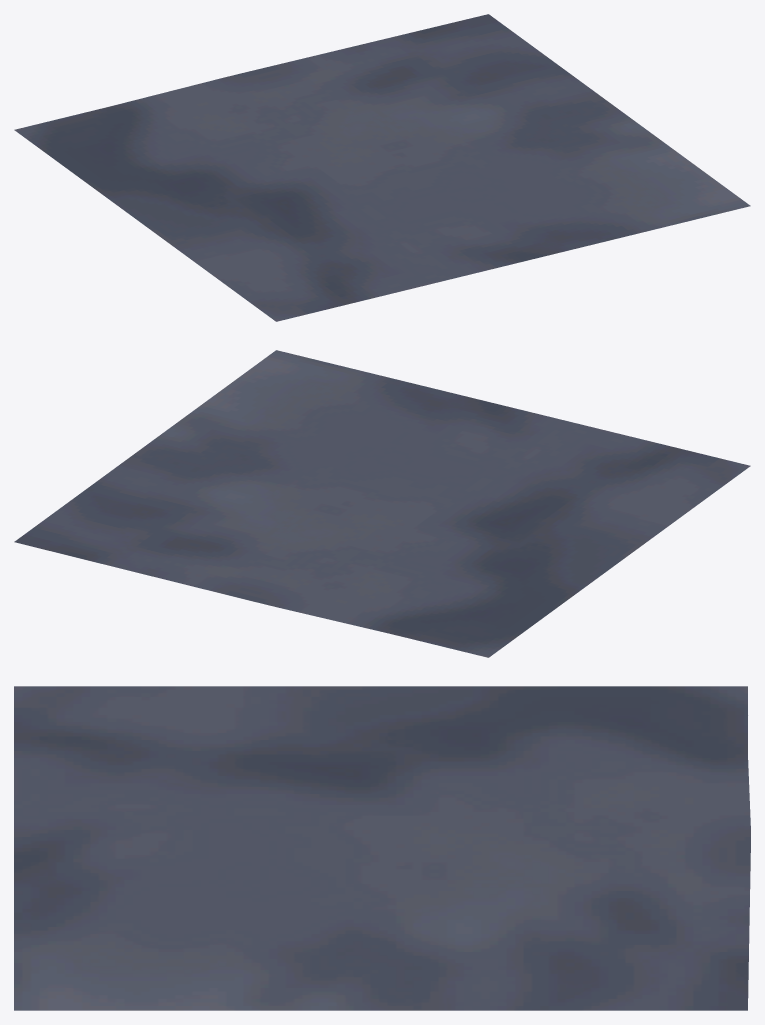
File: WaterPlane_D.fbx
3 views of the same model, one above another, from view 1: azimuth 30°, elevation 25°; view 2: azimuth 150°, elevation 25°; view 3: azimuth 270°, elevation 25° (orthographic). The views are drawn at different scales.
Parts seen in each view (by area): view 1: SM_ENV_AMVLLG02_WaterPlane_D.mo; view 2: SM_ENV_AMVLLG02_WaterPlane_D.mo; view 3: SM_ENV_AMVLLG02_WaterPlane_D.mo.
Part boxes in pixels (left/top/right/bottom): SM_ENV_AMVLLG02_WaterPlane_D.mo: left=14, top=14, right=750, bottom=321; SM_ENV_AMVLLG02_WaterPlane_D.mo: left=14, top=350, right=750, bottom=657; SM_ENV_AMVLLG02_WaterPlane_D.mo: left=14, top=686, right=750, bottom=1010.
Size of the model in its own units: 31448 by 0.00492 by 30226.
